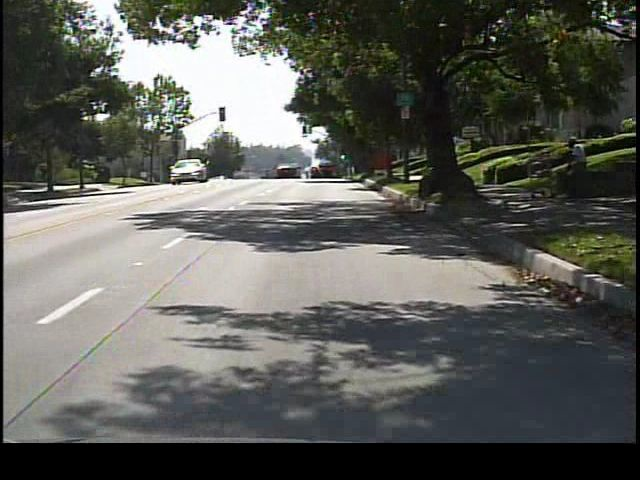person: (560, 134, 592, 207)
